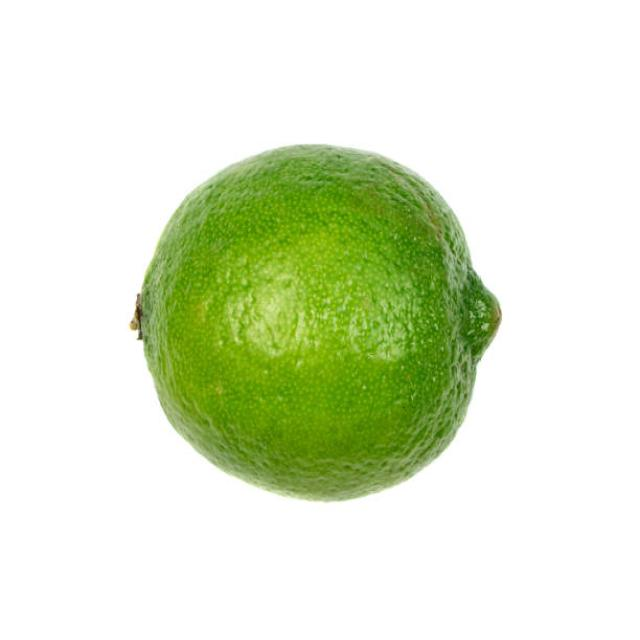Unripe: (132, 140, 502, 502)
